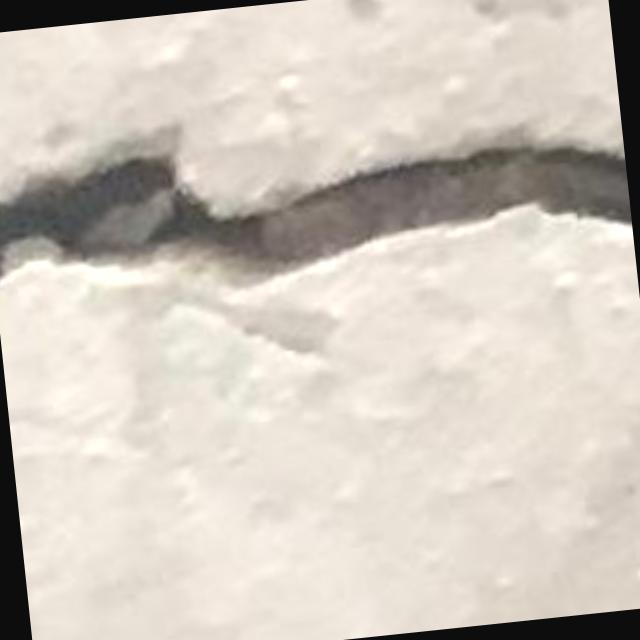crack: (0, 131, 631, 286)
